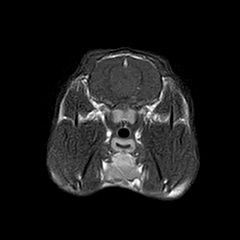Brain: (77, 30, 176, 128)
